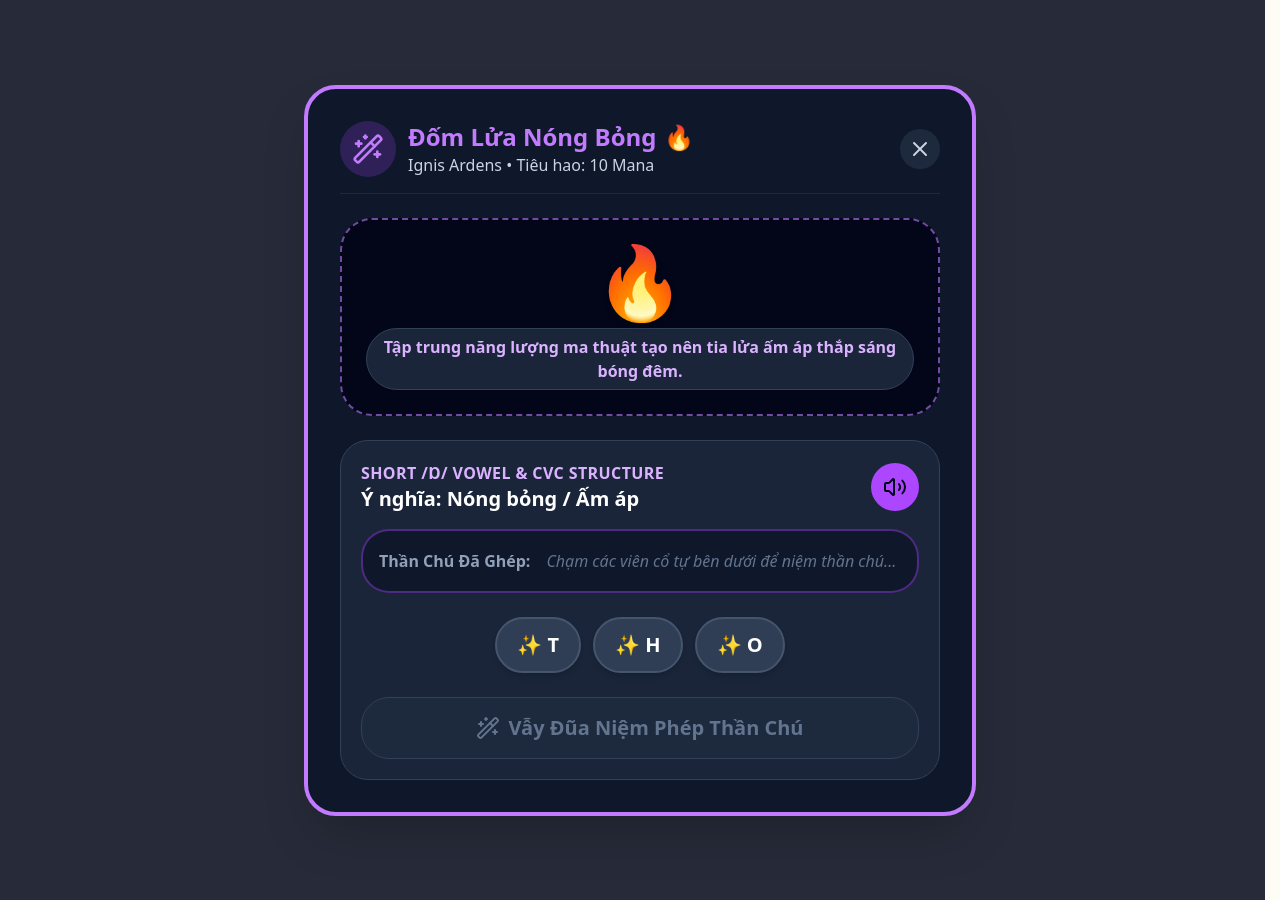
Phonics Magic Academy UI Components › WandIncantationModal › renders modal, assembles word by tapping runes, and completes spell on correct cast
The width and height of the screenshot is (1280, 900).
Check: the text "Đốm Lửa Nóng Bỏng" is shown, box [408,120,656,152]
Check: the text "Short /ɒ/ vowel & CVC structure" is shown, box [361,460,664,484]
Click the button "✨ H" at (638, 644), box [593,616,683,672]
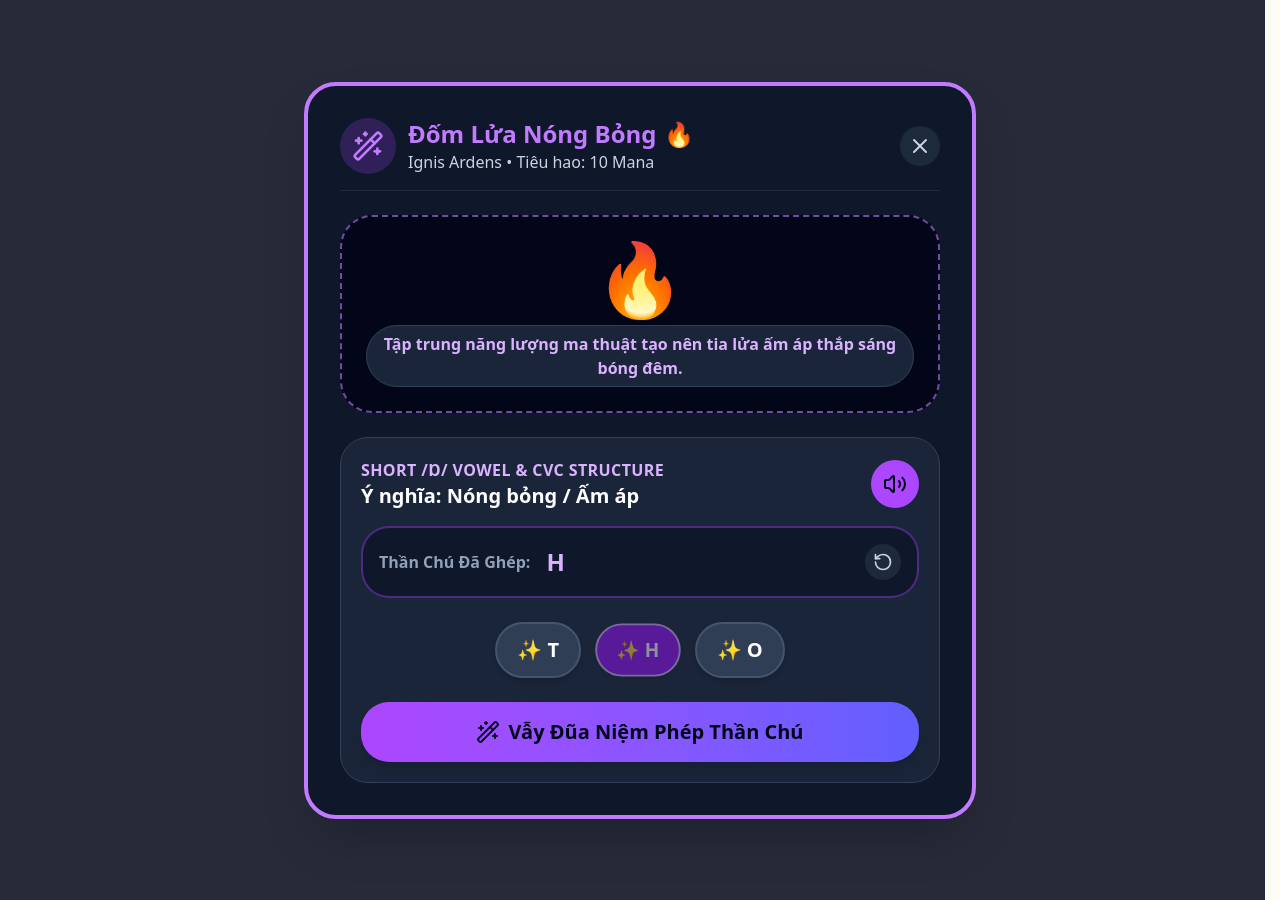
Click the button "✨ O" at (740, 650), box [695,622,785,678]
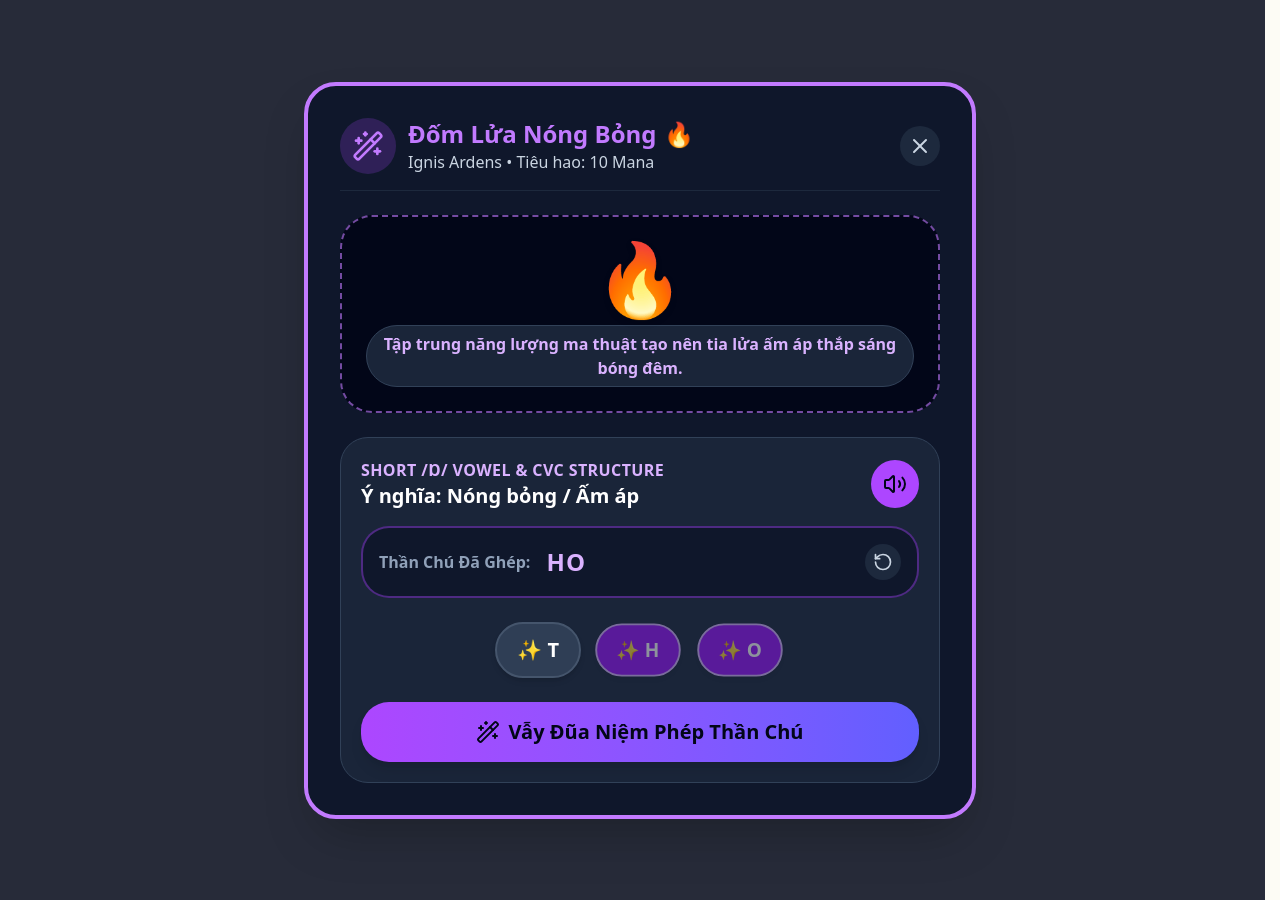
Click the button "✨ T" at (538, 650), box [495,622,581,678]
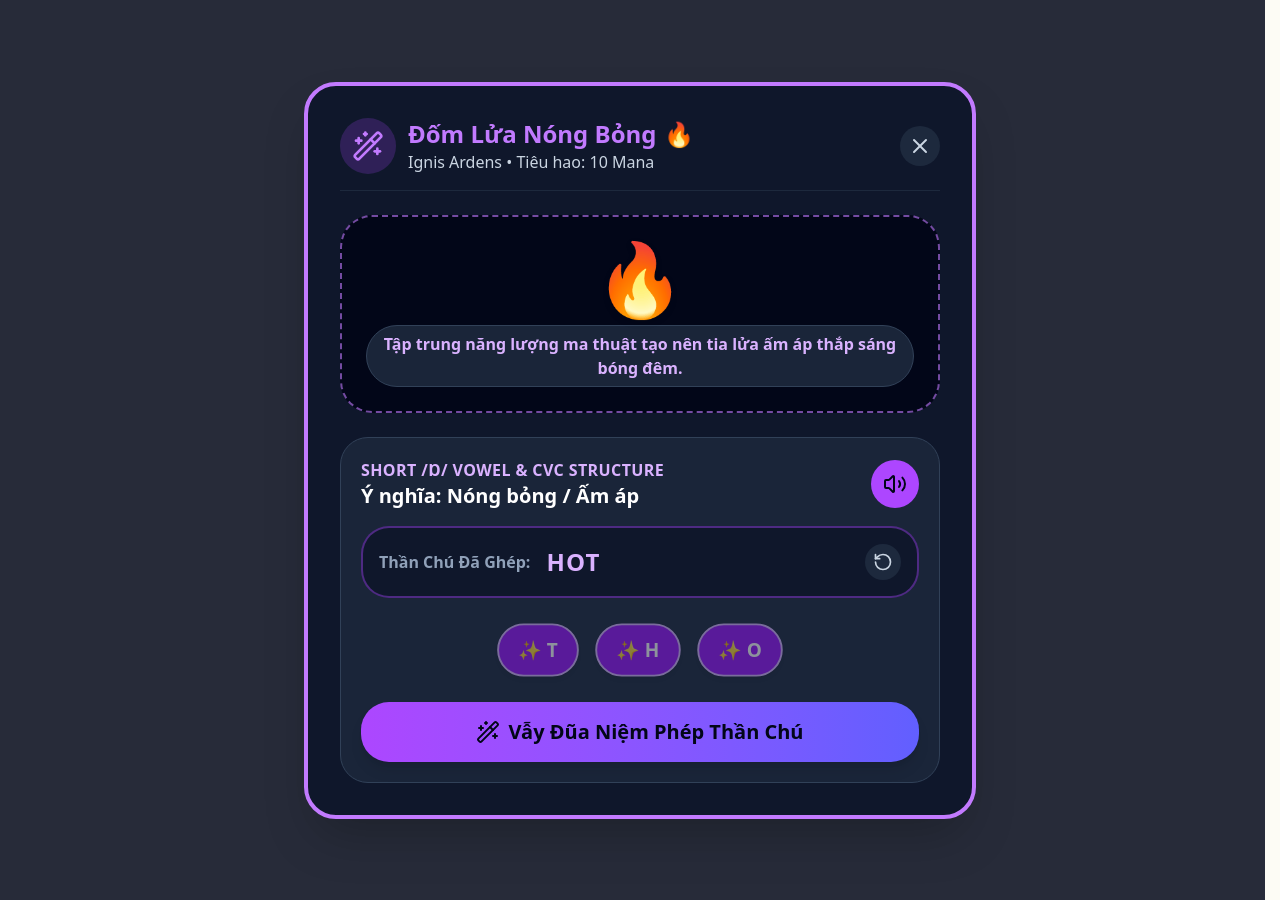
Check: the text "HOT" is shown, box [546,546,601,578]
Note: Click Cast Spell button
Click the button "Vẫy Đũa Niệm Phép Thần Chú" at (640, 732), box [361,702,919,762]
Wait 1700 ms
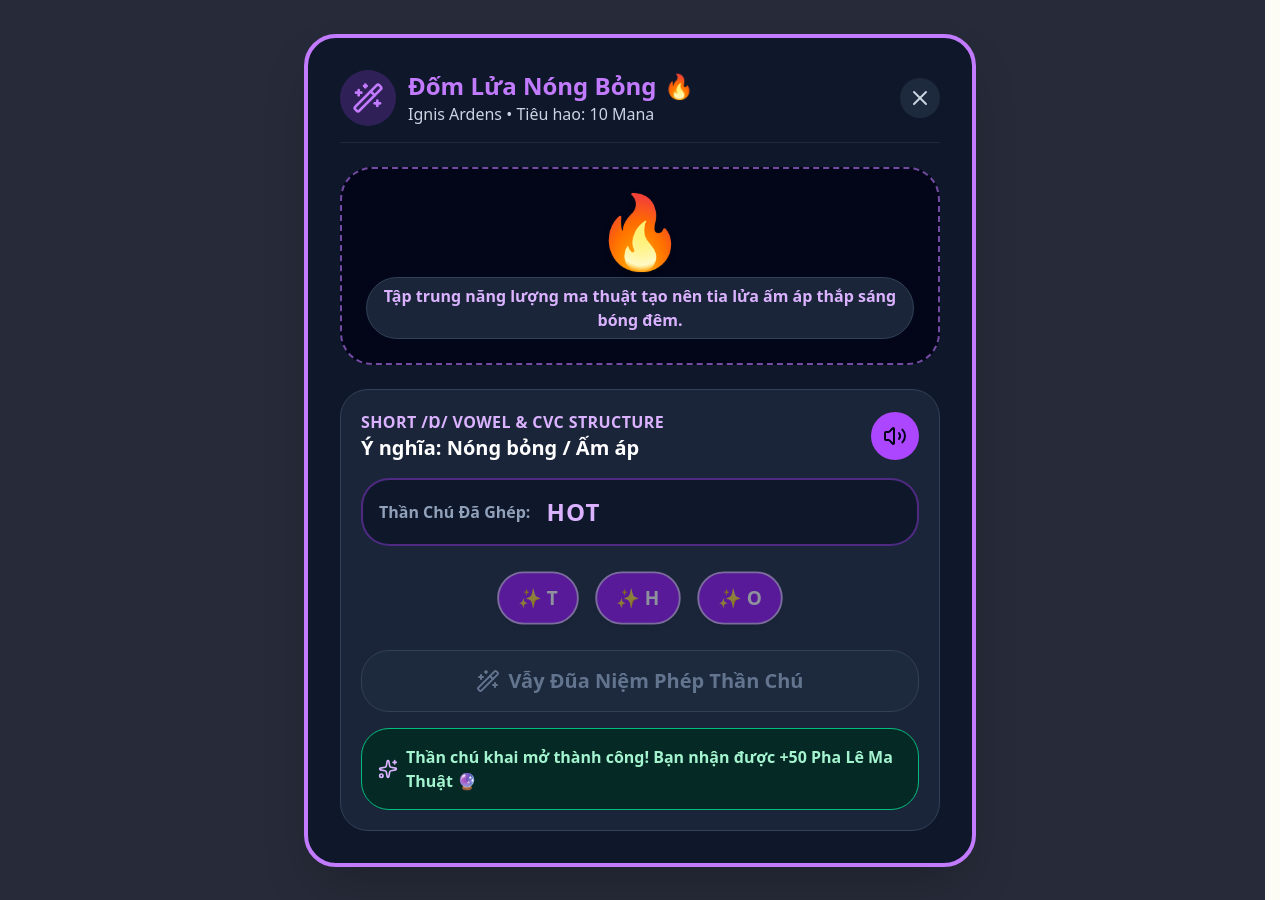
Check: the text "Thần chú khai mở thành công!" is shown, box [406,746,893,792]
